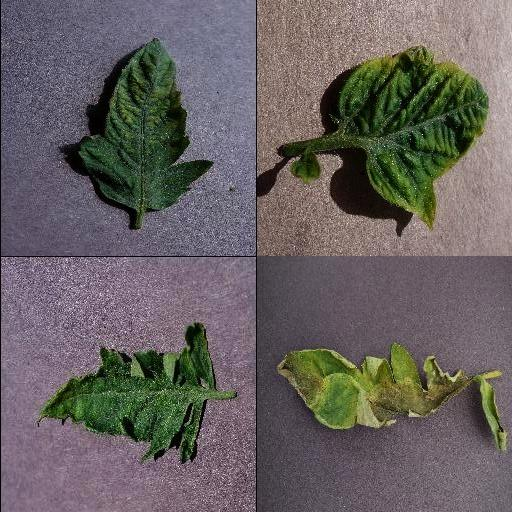Late Blight: (275, 342, 471, 430), (477, 382, 509, 452)
Mosaic Virus: (34, 319, 218, 465), (77, 38, 216, 213)
Yellow Leaf Curl Virus: (338, 47, 488, 231)
